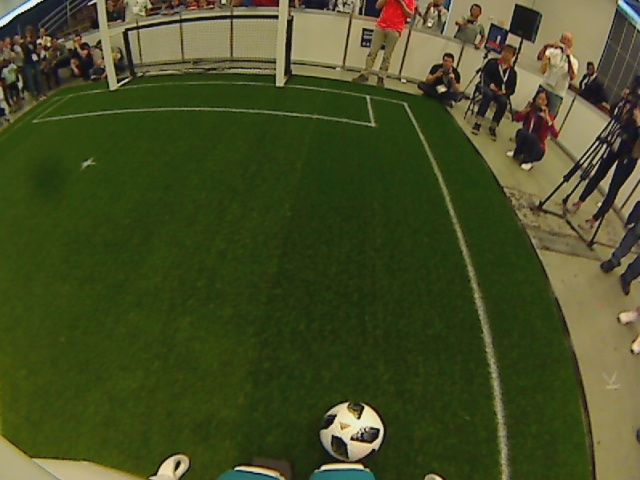ball: (316, 397, 386, 463)
